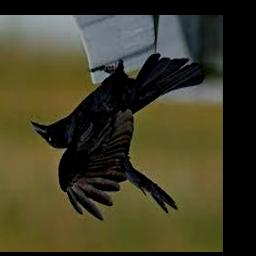Crow: (30, 54, 204, 221)
